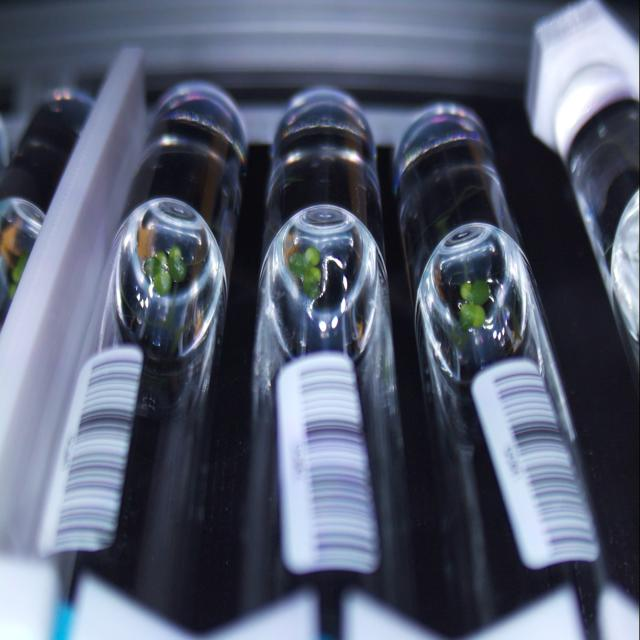Lemna-Gibba: (142, 245, 188, 295), (289, 247, 321, 299), (459, 280, 490, 330)
